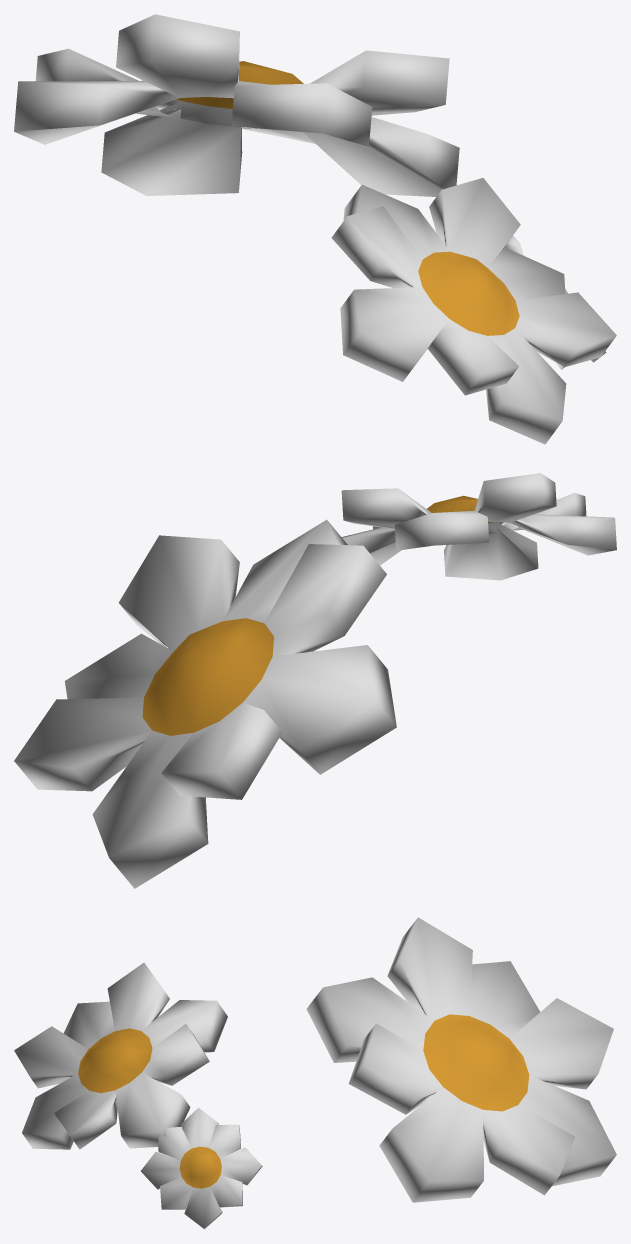
The model's file is hat_flower.fbx.
3 renders of one model, top to bottom at view 1: azimuth 30°, elevation 25°; view 2: azimuth 150°, elevation 25°; view 3: azimuth 270°, elevation 25°, orthographic. The views are drawn at different scales.
Visible parts, largest first — view 1: hat_flowers; view 2: hat_flowers; view 3: hat_flowers.
Part boxes in pixels (box(x1,y1,x2,y2)): hat_flowers: box(14, 14, 616, 444); hat_flowers: box(14, 473, 616, 888); hat_flowers: box(14, 917, 616, 1229).
Bounding box in the file's own units: 79.33 × 58.62 × 144.
